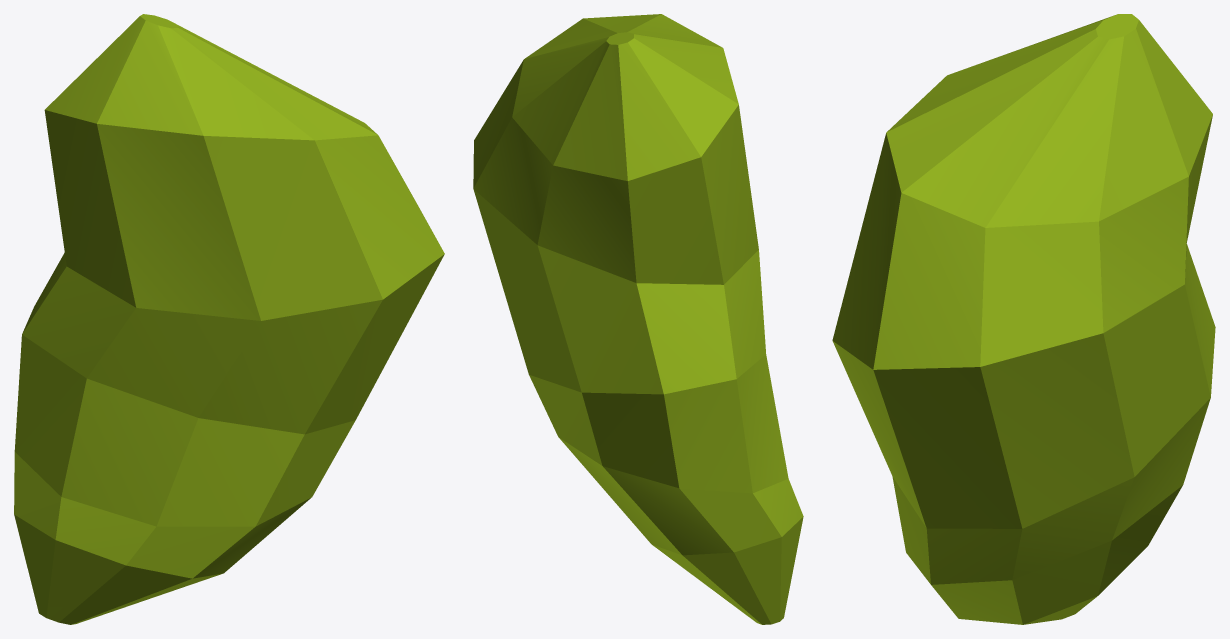
Rendered from Vegetation_Modular_Tree_Foliage_Clump_Large_04.fbx.
3 views of the same model, side by side, from view 1: azimuth 30°, elevation 25°; view 2: azimuth 150°, elevation 25°; view 3: azimuth 270°, elevation 25° (orthographic). The views are drawn at different scales.
Parts seen in each view (by area): view 1: Vegetation_Modular_Tree_Foliage_Clump_Large_04; view 2: Vegetation_Modular_Tree_Foliage_Clump_Large_04; view 3: Vegetation_Modular_Tree_Foliage_Clump_Large_04.
Boxes of the visible parts, <box> form: Vegetation_Modular_Tree_Foliage_Clump_Large_04: <box>14,14,444,624</box>; Vegetation_Modular_Tree_Foliage_Clump_Large_04: <box>473,14,803,624</box>; Vegetation_Modular_Tree_Foliage_Clump_Large_04: <box>832,14,1215,624</box>.
Size of the model in its own units: 53.85 by 81.85 by 42.99.
